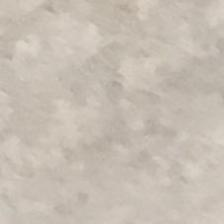Non_Crack: (28, 36, 213, 182)
